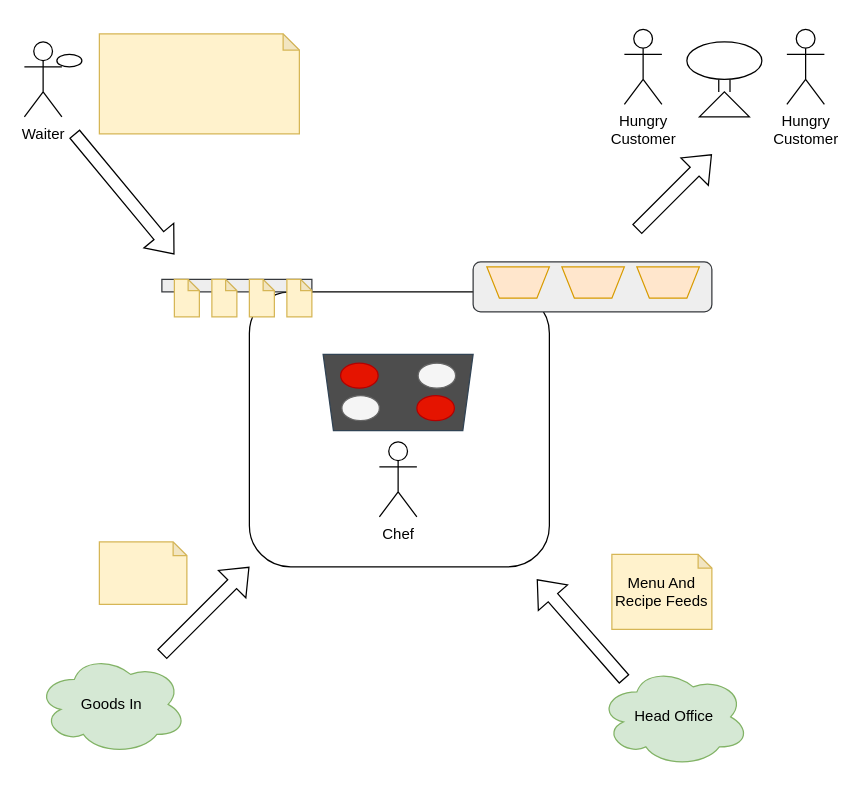
Image size: 859x789. Some labels were removed from this diagram. Here are the shapes that lost their labels. From the top down, the box of each, then its label:
(98, 32, 299, 134): 1x Guacamole 1x Quesadilla 2x Barbacoa Tacos 2x Margarita
(248, 291, 549, 567): Kitchen
(98, 541, 187, 604): Tequila Beef Skirt Tomatoes
